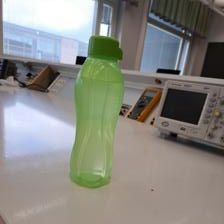bottle: (63, 33, 127, 189)
